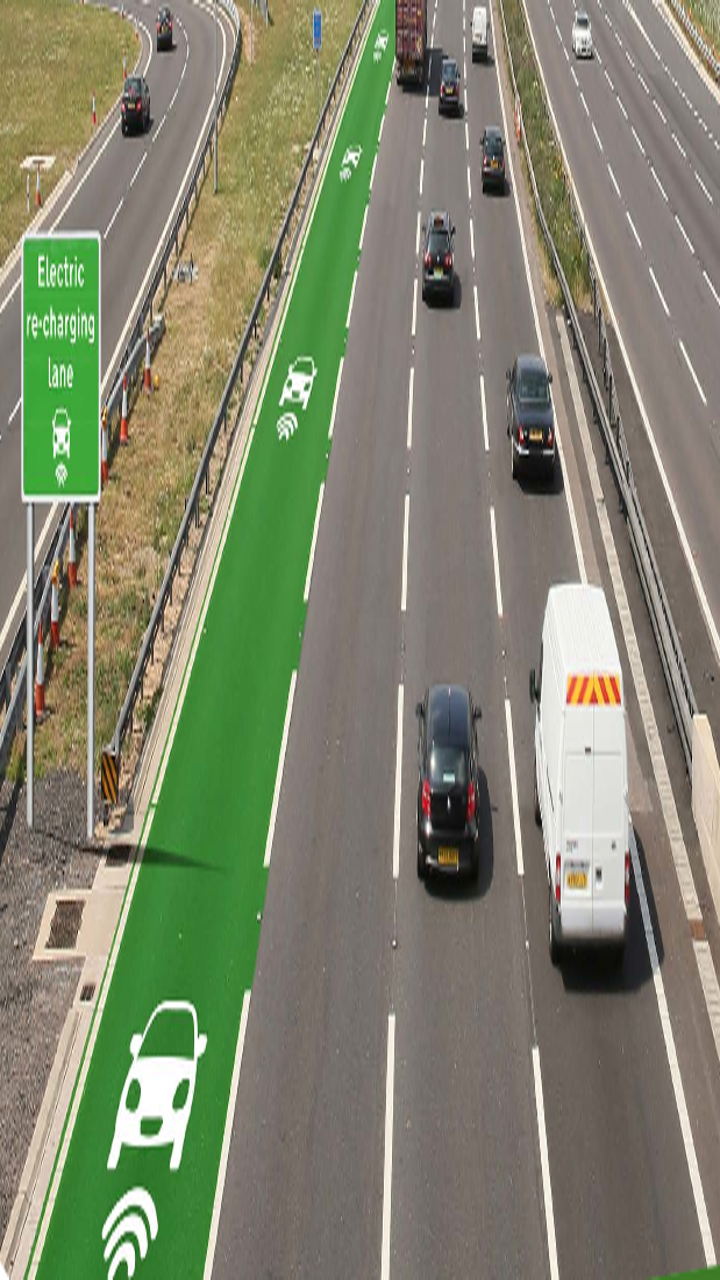Traffic sign: (16, 228, 128, 519)
vehicle: (531, 566, 644, 955), (410, 680, 494, 899), (496, 344, 570, 489), (406, 199, 467, 320), (464, 116, 526, 201), (118, 65, 159, 150), (390, 1, 431, 85), (152, 1, 193, 85), (435, 49, 464, 128), (466, 3, 495, 82), (569, 1, 598, 80)
